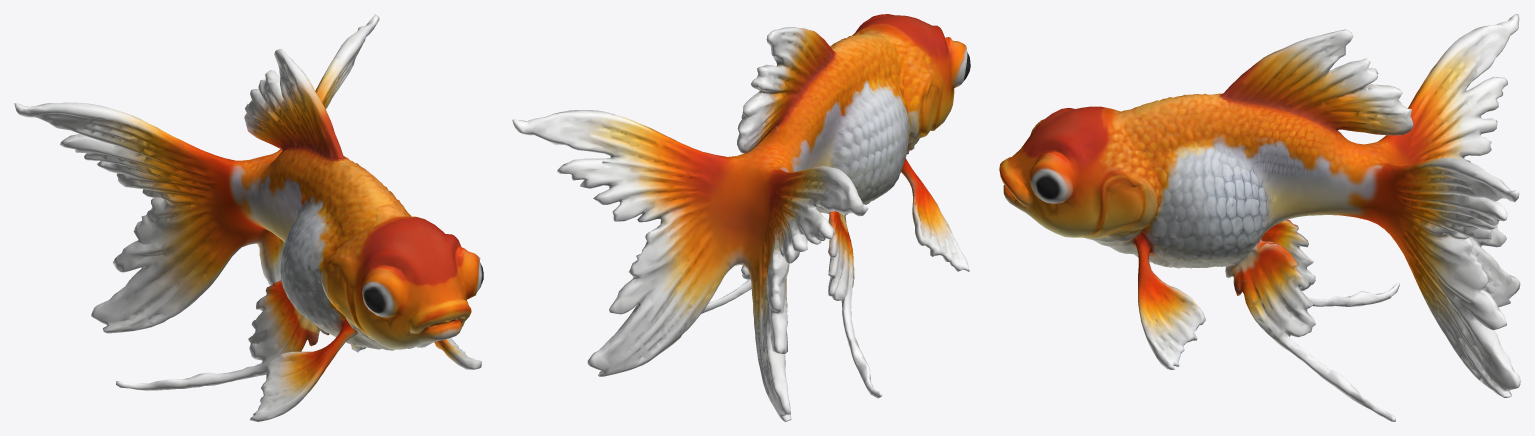
File: goldfish.glb
3 renders of one model, left to right at view 1: azimuth 30°, elevation 25°; view 2: azimuth 150°, elevation 25°; view 3: azimuth 270°, elevation 25°, orthographic. The views are drawn at different scales.
Size of the model in its own units: 1.56 by 1.34 by 1.92.
1 material, 1 textured.
